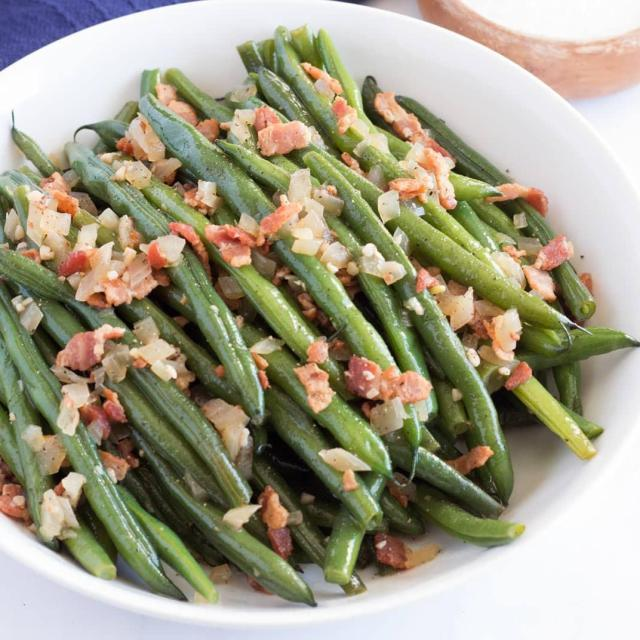Beans: (0, 23, 637, 611)
